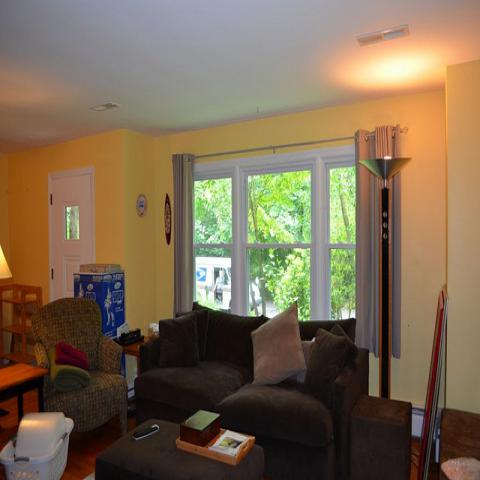truck: (196, 262, 229, 300)
